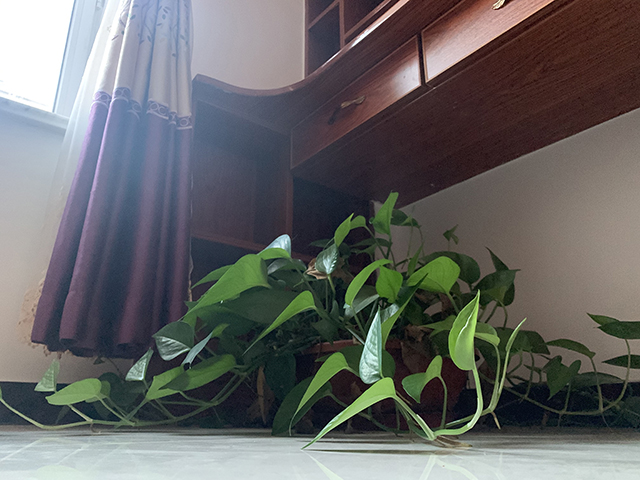cabinet: (189, 1, 640, 296)
curtain: (18, 1, 193, 359)
